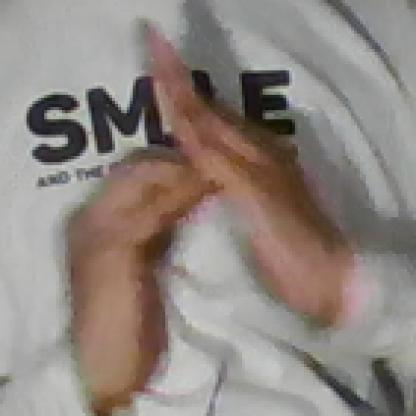Z: (70, 15, 297, 364)
